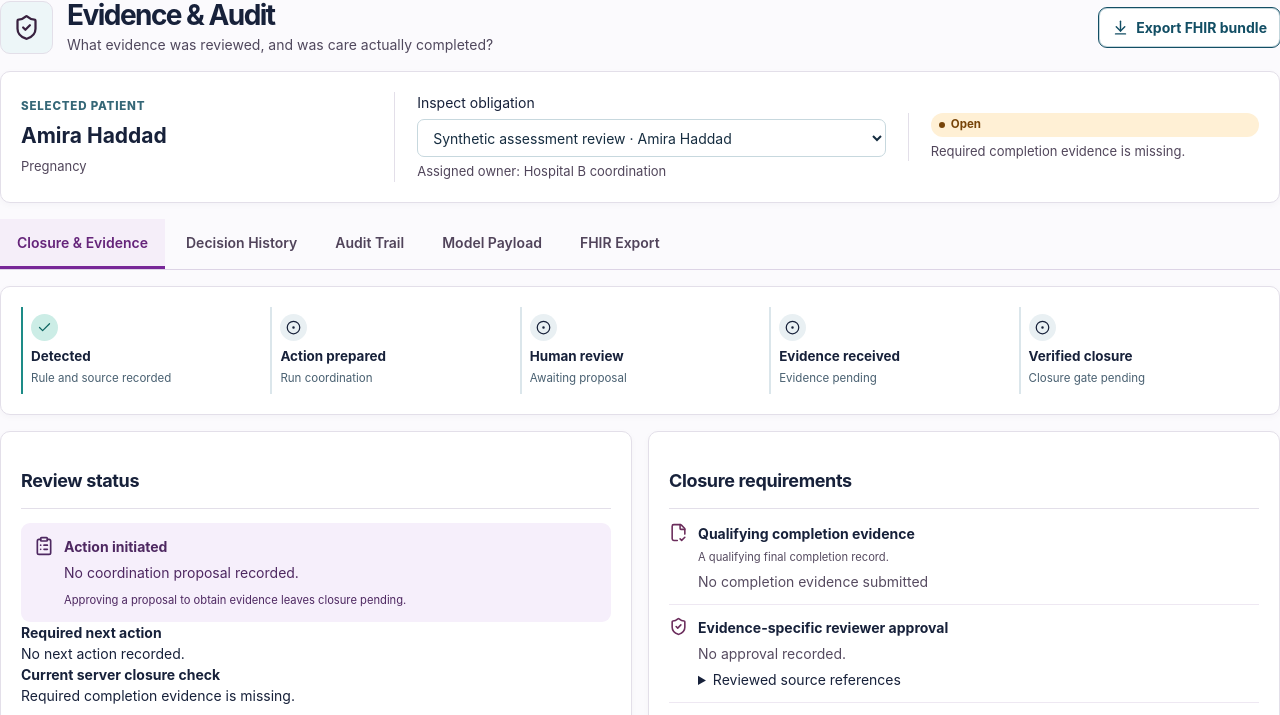
it: five tabs default to closure, preserve backend blocker and defer model inspection
Expected: the tabs read "Closure & Evidence", "Decision History", "Audit Trail", "Model Payload", "FHIR Export", in this order, [0,219,165,269]; [169,219,314,269]; [318,219,421,269]; [425,219,559,269]; [563,219,677,269]
Expected: the panel shows "Required completion evidence is missing.", [21,687,295,704]
Step 1. Click the button "Export FHIR bundle" → (1190, 28), box [1099,8,1279,47]
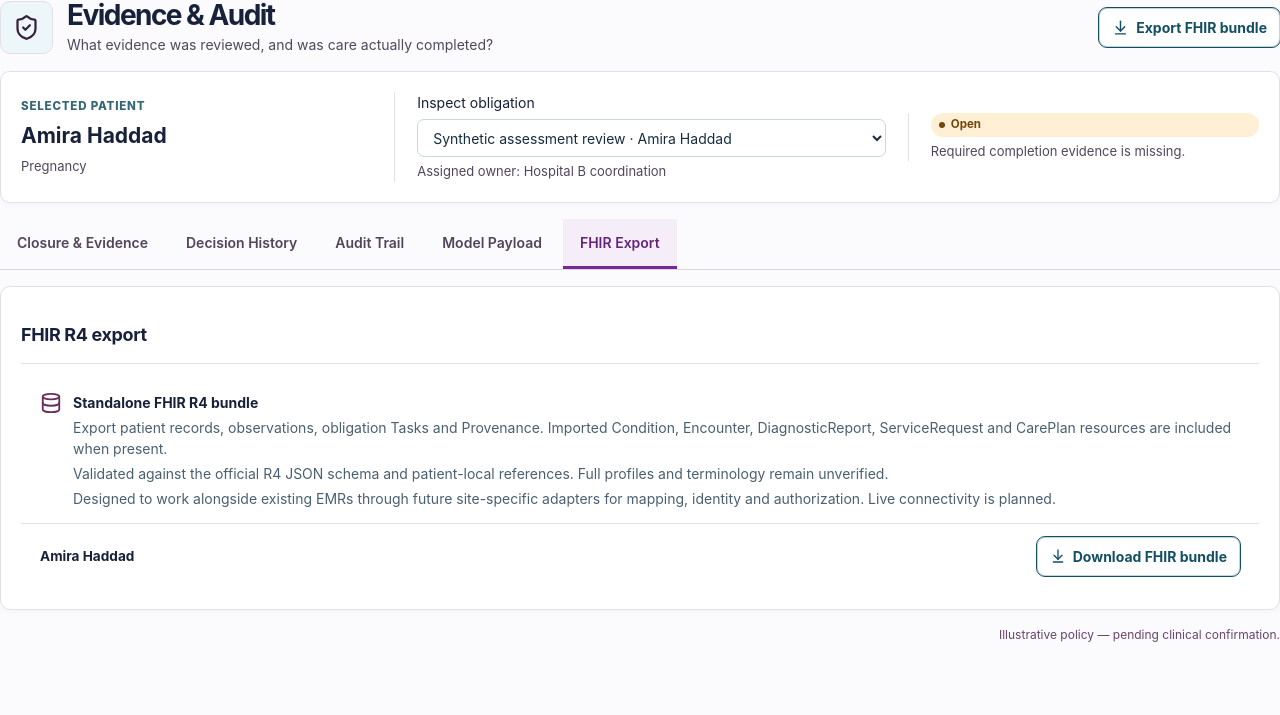
Result: the panel shows "FHIR R4 export" at [21,324,147,345]
Result: the button "Download FHIR bundle" is shown at [1037,537,1240,576]
